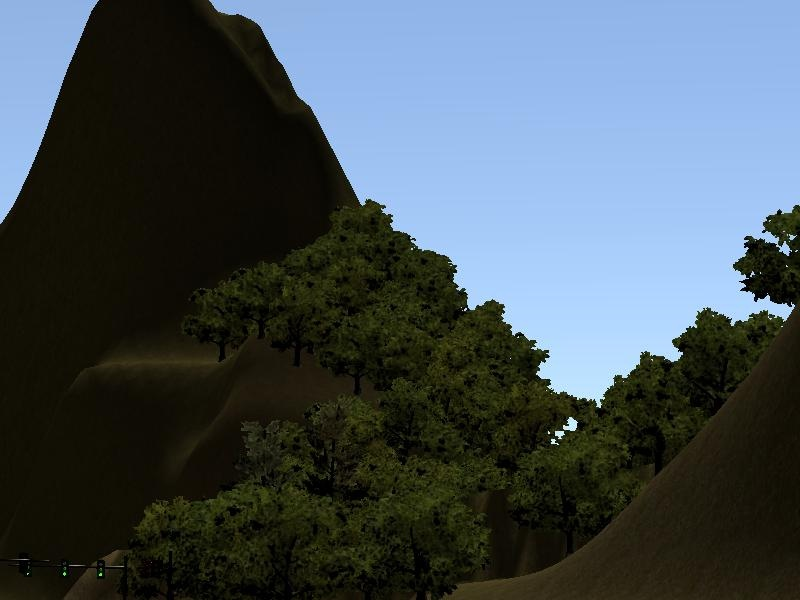GREEN: (91, 552, 108, 585), (58, 553, 73, 584)
